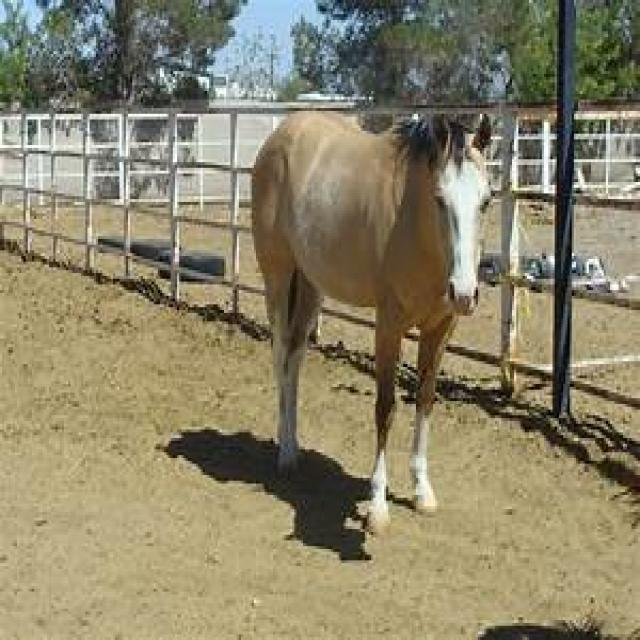horse: (250, 111, 497, 538)
